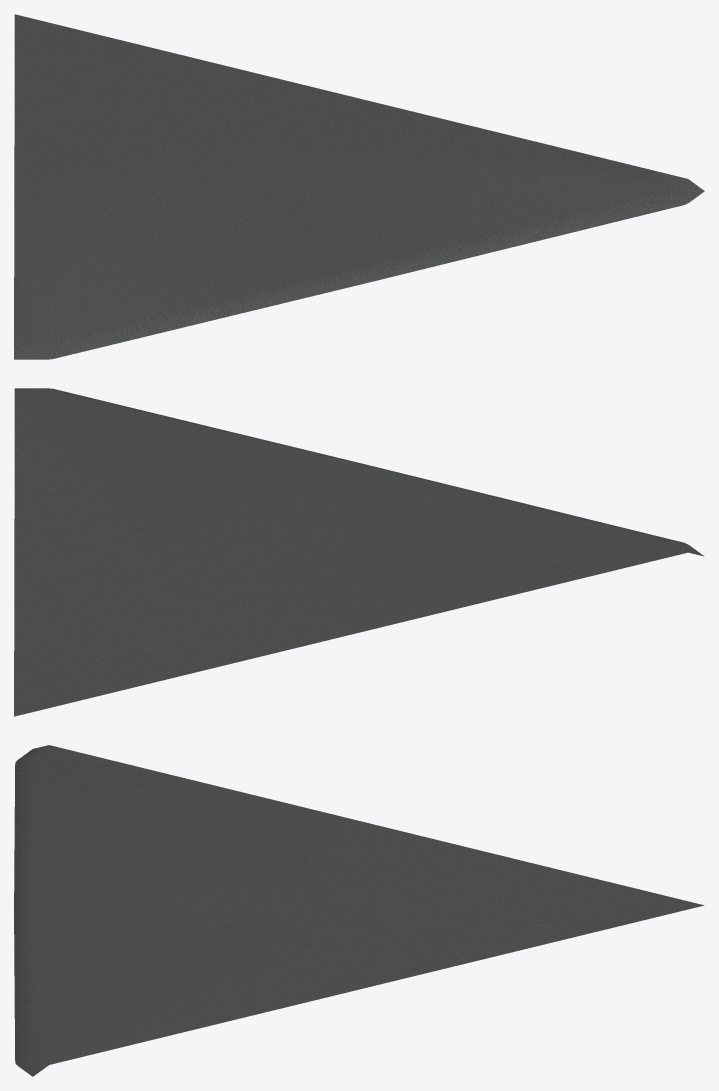
The model's file is ceiling04.FBX.
The picture shows the model from 3 angles, top to bottom: view 1: azimuth 30°, elevation 25°; view 2: azimuth 150°, elevation 25°; view 3: azimuth 270°, elevation 25°; orthographic projection. The views are drawn at different scales.
Parts seen in each view (by area): view 1: ceiling04; view 2: ceiling04; view 3: ceiling04.
Boxes of the visible parts, x1,y1,x2,y2 form: ceiling04: (14,14,704,359); ceiling04: (14,388,704,716); ceiling04: (14,745,704,1076).
Bounding box in the file's own units: 259 × 2.92 × 231.
1 material, 1 textured.
